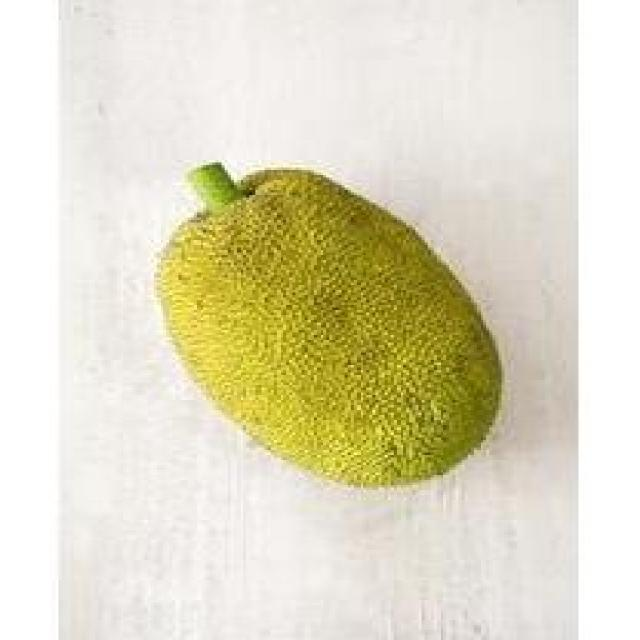Fruit: (129, 145, 520, 510)
